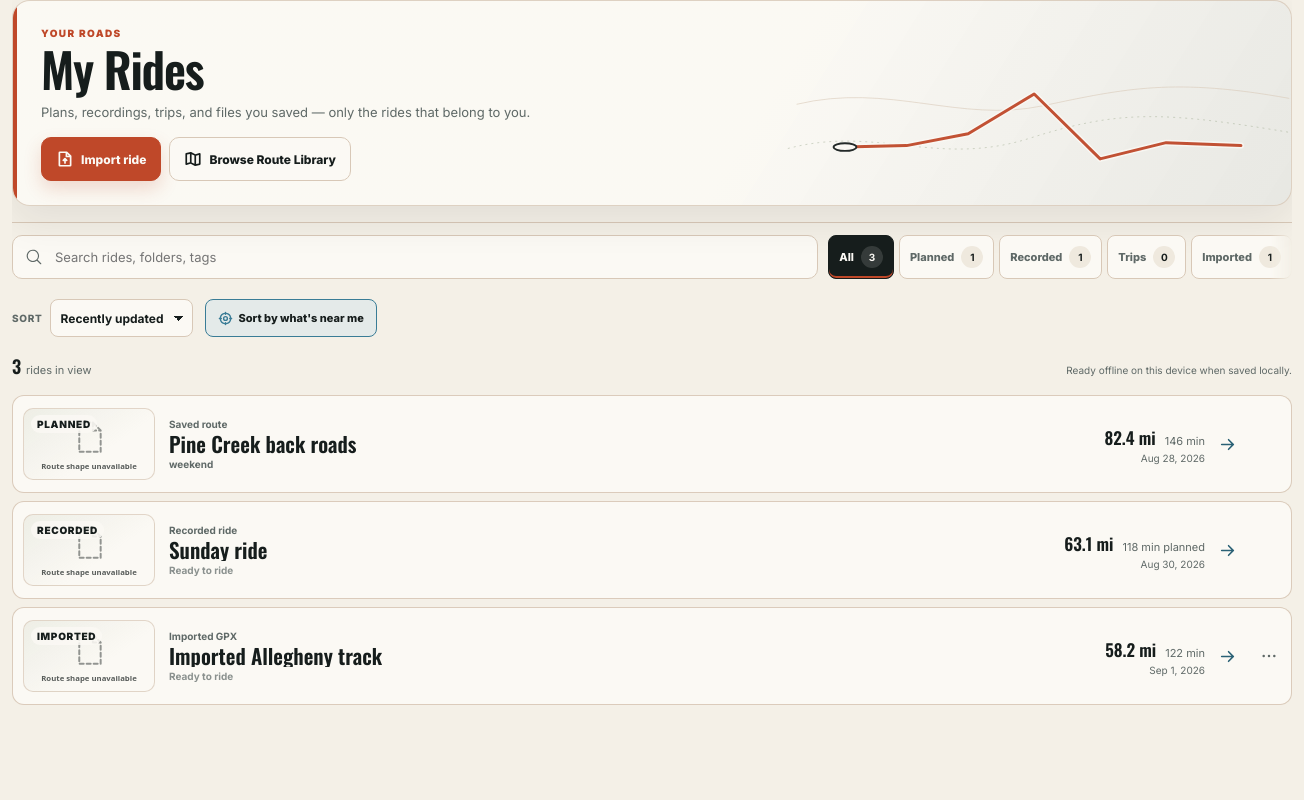
RidesSurface › filters only rider-owned normalized sources without changing storage identity
The width and height of the screenshot is (1304, 800).
Click the button "Recorded 1" at (1051, 257), box [999,235,1102,279]
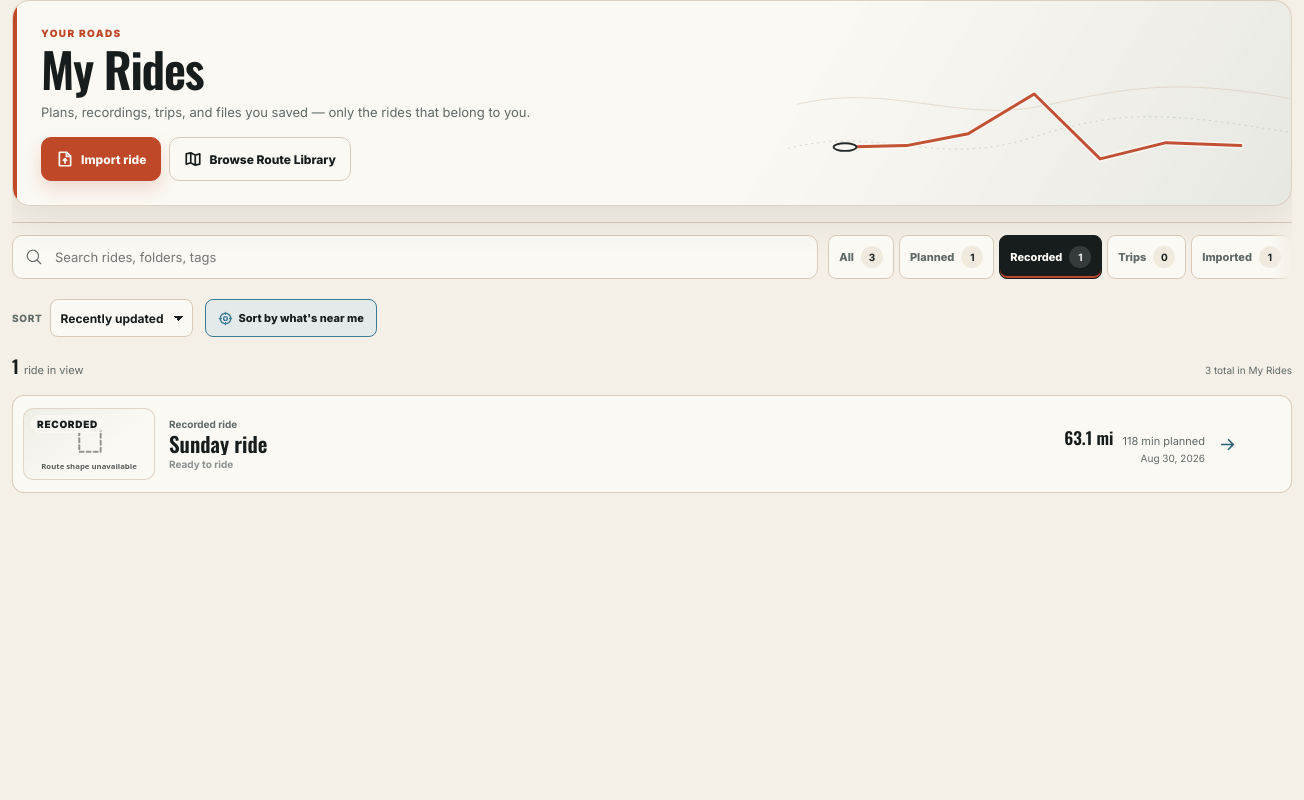
expect the text "Sunday ride" is shown: met, box [169,428,267,459]
expect the button "Pine Creek back roads" is gone: met
Click the button "All 3" at (861, 257), box [828,235,894,279]
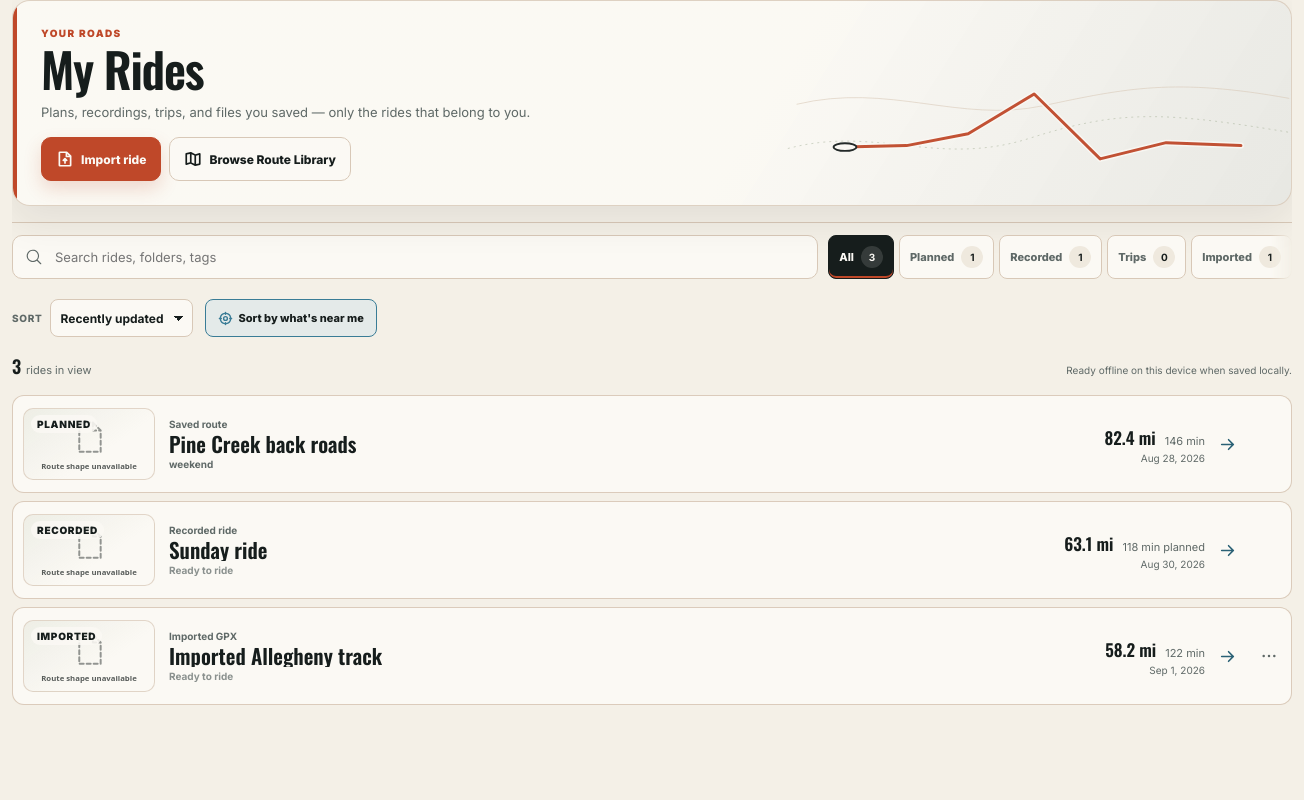
Type "Allegheny" into the search field labelled "Search rides" at (429, 257), box [53,248,805,266]
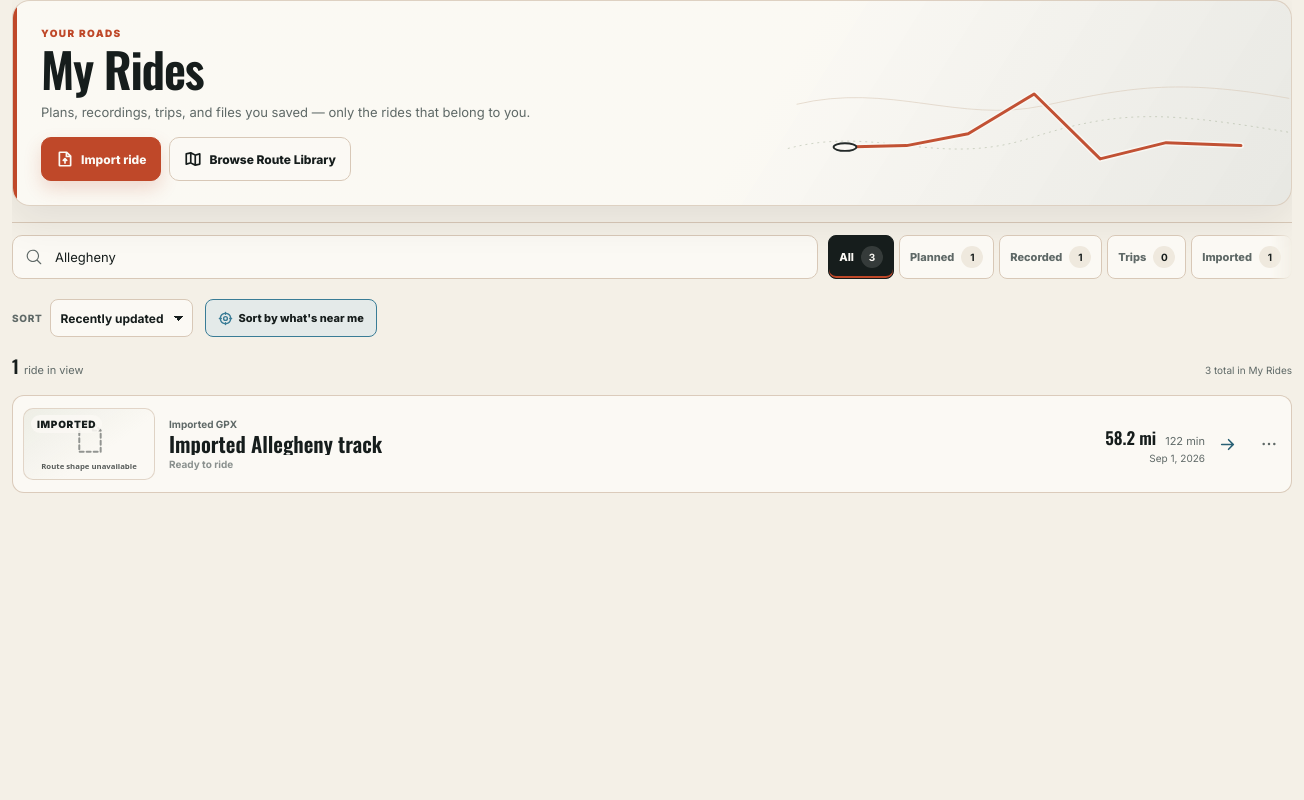
expect the text "Imported Allegheny track" is shown: met, box [169,428,382,459]
expect the button "Sunday ride" is gone: met
